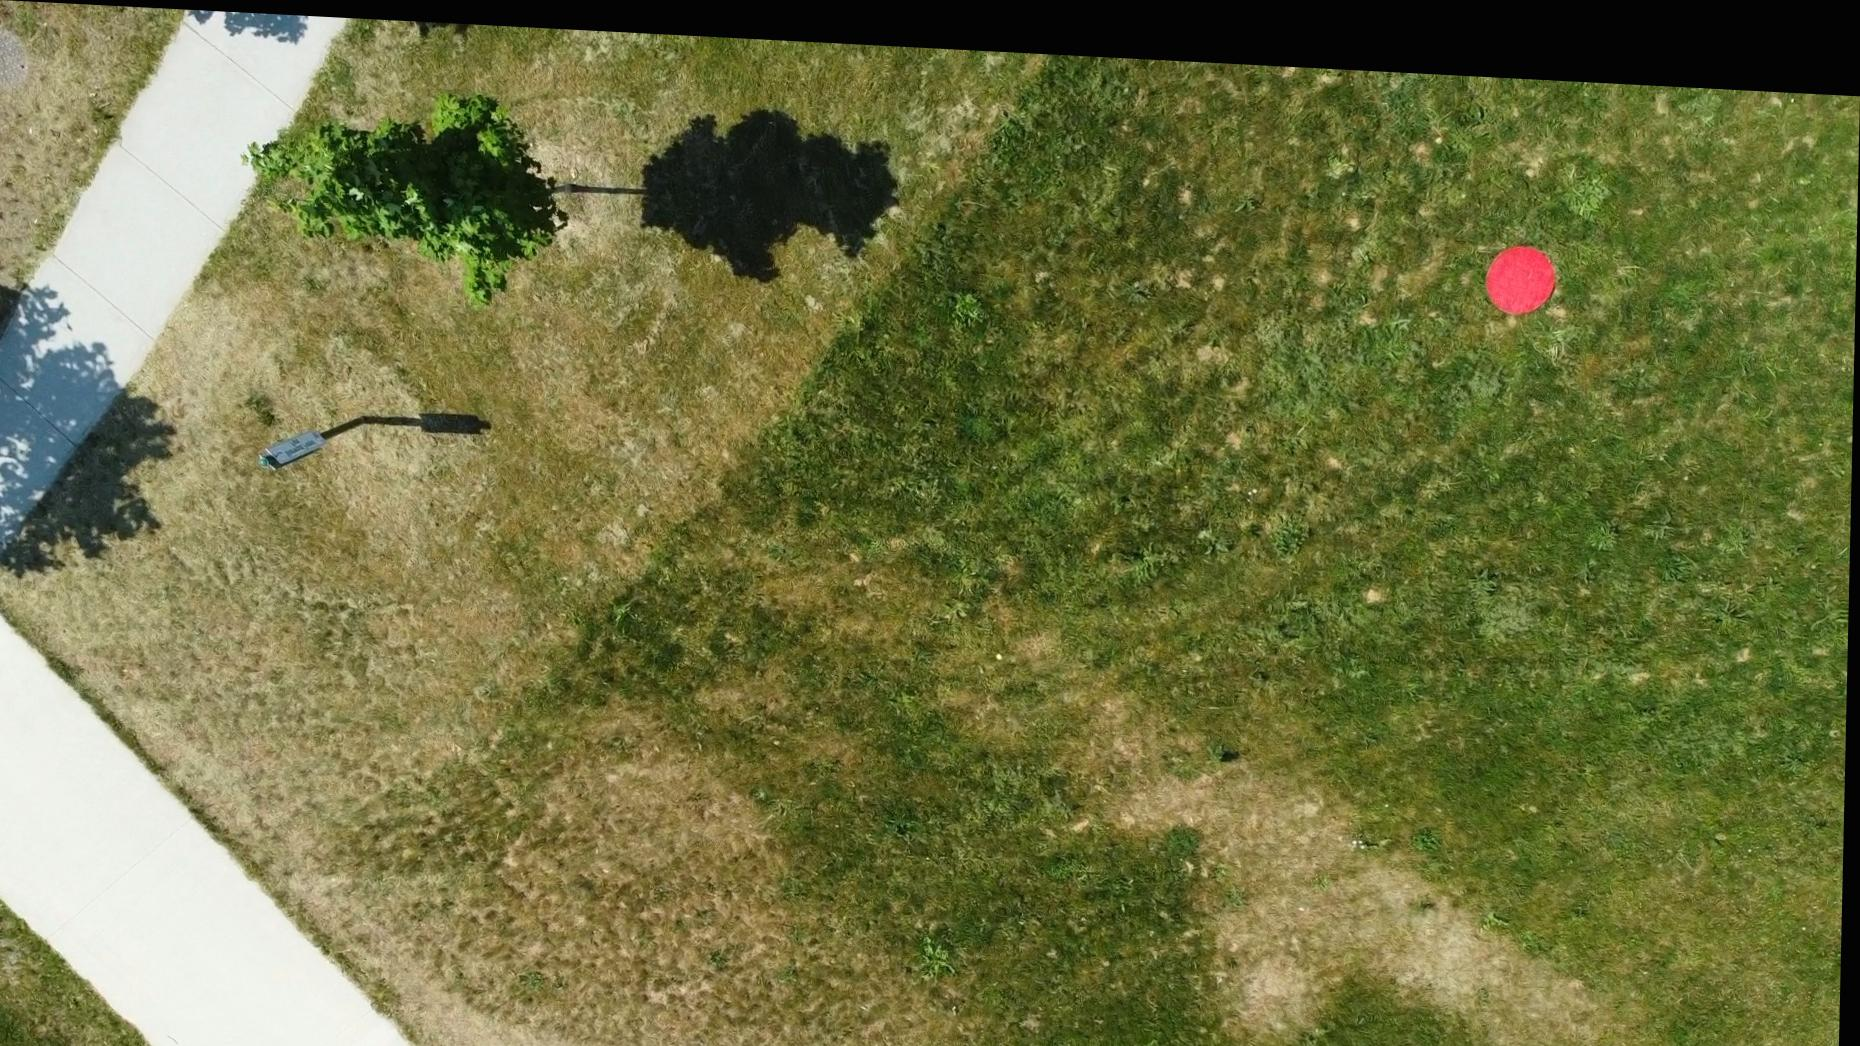Red: (1482, 221, 1561, 303)
